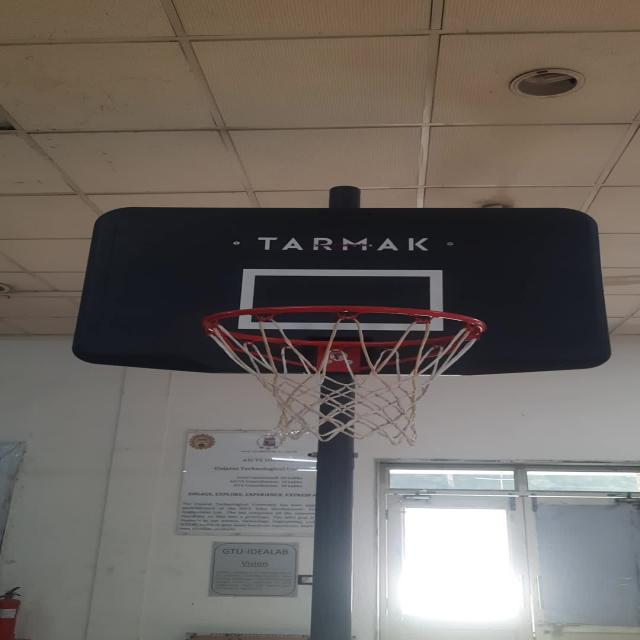objects: (190, 306, 493, 443), (243, 267, 438, 329)
